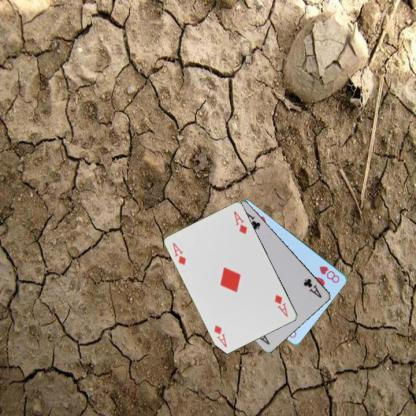8h: (317, 264, 341, 284)
Ac: (301, 276, 323, 299)
Ad: (272, 292, 290, 318), (170, 240, 187, 266)
